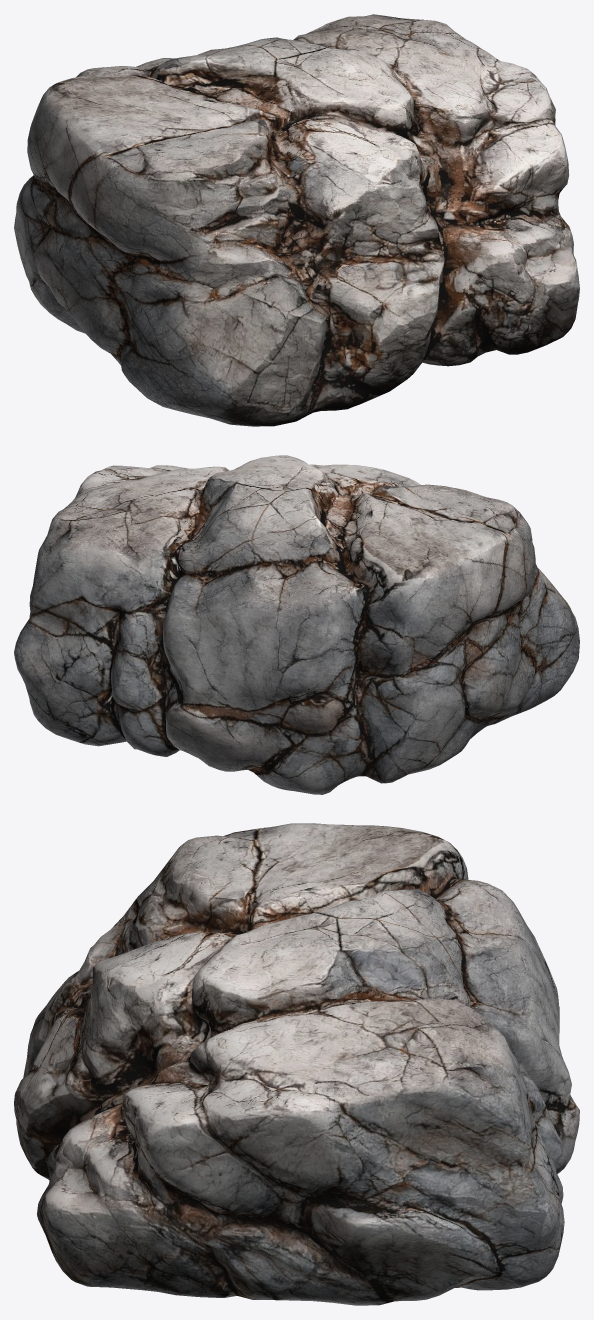
File: rock__cracked-granite-boulder.glb
3 views of the same model, one above another, from view 1: azimuth 30°, elevation 25°; view 2: azimuth 150°, elevation 25°; view 3: azimuth 270°, elevation 25° (orthographic). The views are drawn at different scales.
Bounding box in the file's own units: 1.91 × 0.9662 × 1.75.
Materials: 1 (1 with a texture image).
